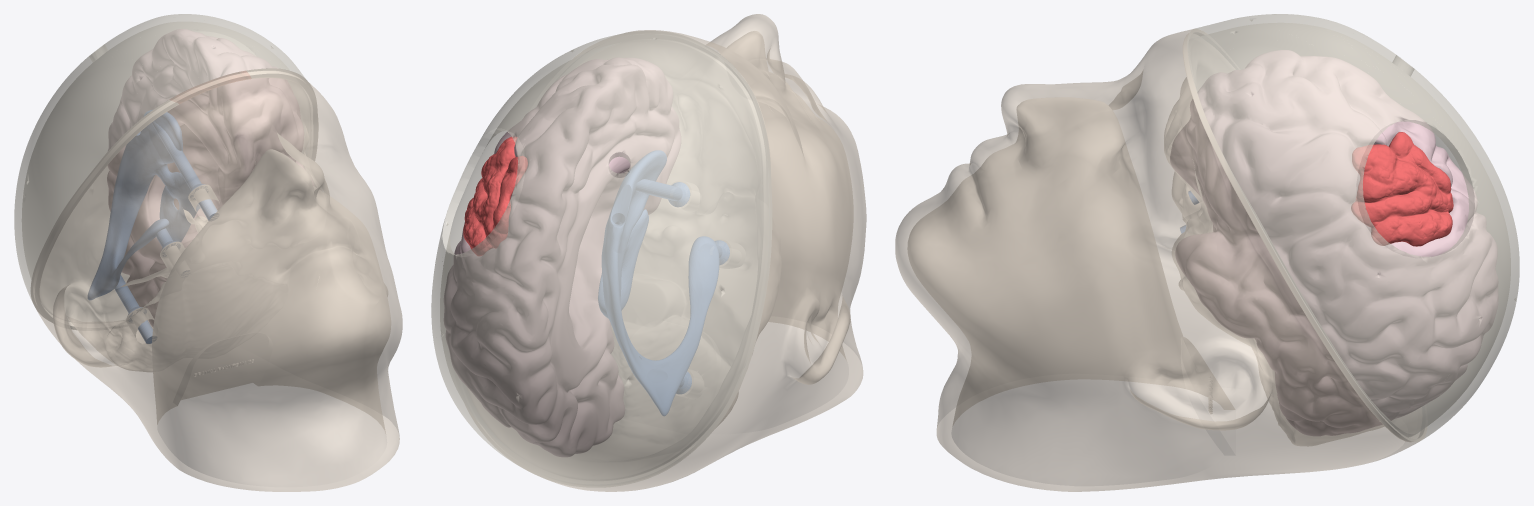
File: brain_scene.glb
3 renders of one model, left to right at view 1: azimuth 30°, elevation 25°; view 2: azimuth 150°, elevation 25°; view 3: azimuth 270°, elevation 25°, orthographic. The views are drawn at different scales.
Parts seen in each view (by area): view 1: Brain, Ventricle; view 2: Brain, Ventricle, Tumor; view 3: Brain, Tumor.
Part boxes in pixels (x1,y1,x2,y2): Brain: [14, 14, 402, 491]; Ventricle: [88, 110, 216, 343]; Brain: [431, 14, 866, 491]; Ventricle: [598, 150, 729, 415]; Tumor: [463, 136, 527, 255]; Brain: [895, 14, 1519, 491]; Tumor: [1351, 132, 1453, 246].
Bounding box in the file's own units: 0.1705 × 0.1916 × 0.2675.
2 materials, 2 textured.
